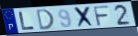2: (114, 4, 132, 26)
9: (57, 8, 73, 28)
D: (35, 8, 55, 32)
F: (92, 5, 111, 27)
L: (17, 11, 36, 31)
X: (73, 6, 96, 29)
